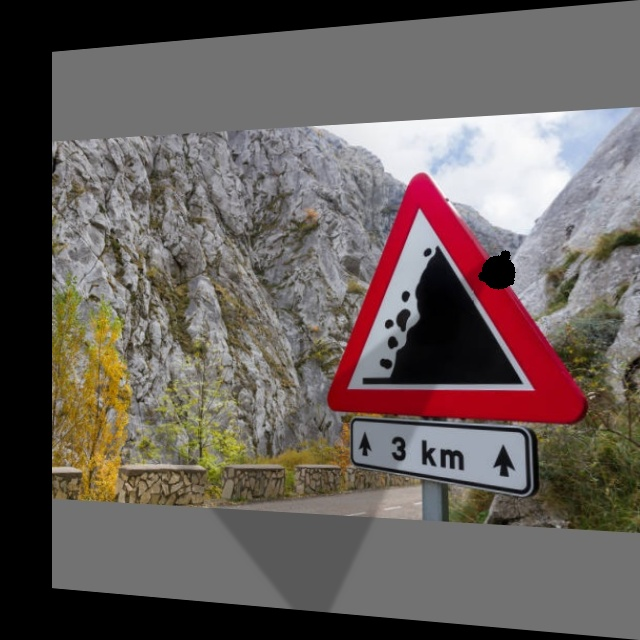Falling_Rocks: (321, 168, 580, 424)
